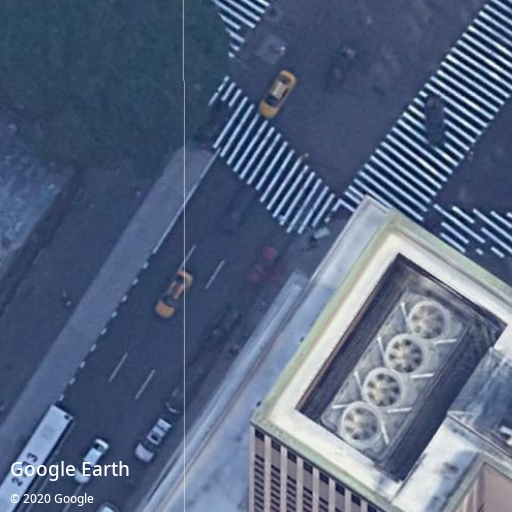Vent: (409, 302, 446, 340), (343, 406, 380, 442), (388, 338, 424, 374), (365, 371, 401, 407)
